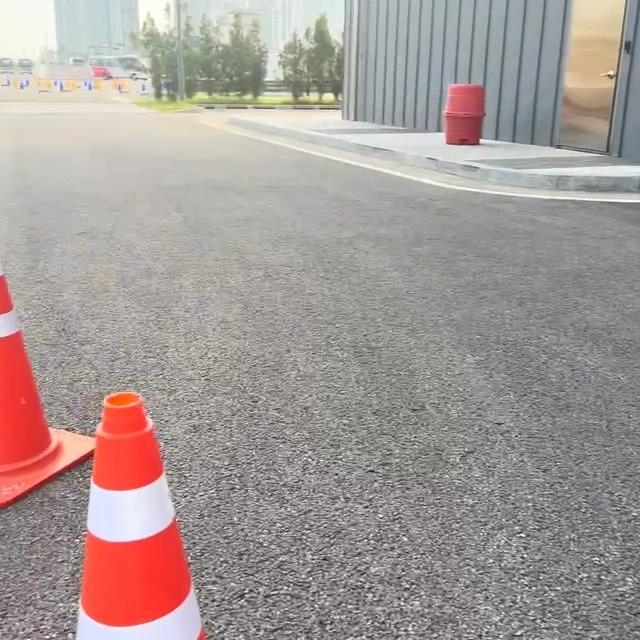fallen_object: (51, 189, 201, 640), (0, 221, 78, 488)
